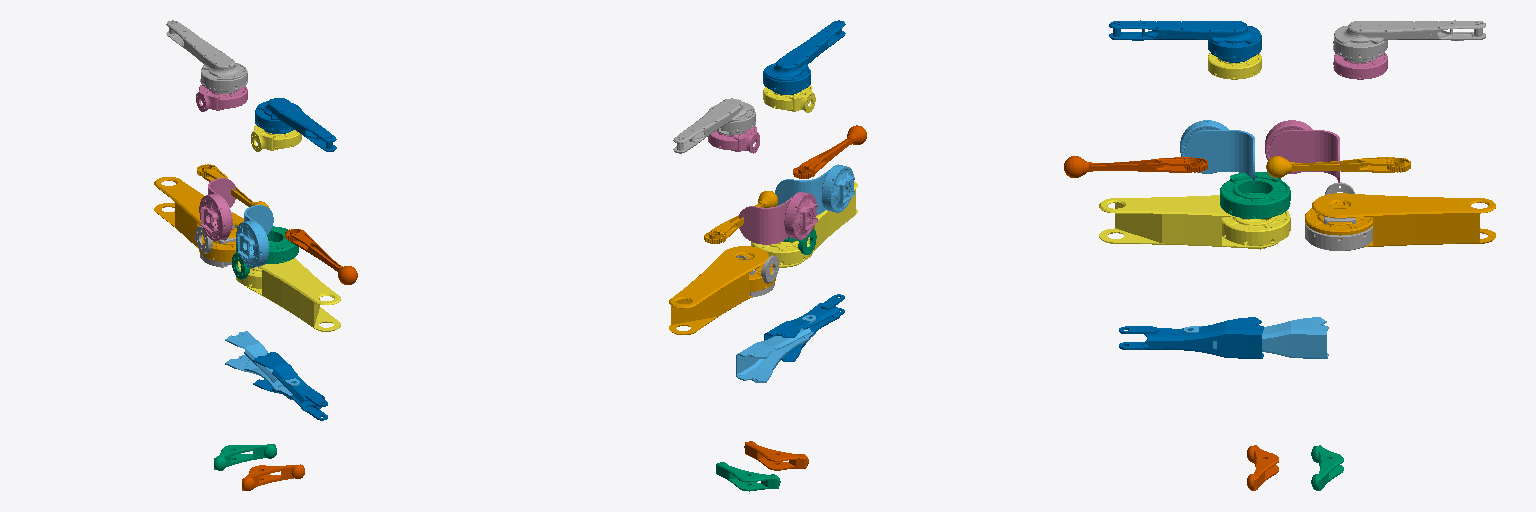
URDF robot description (humanoid):
<robot name="humanoid">
  <!-- ===== DUMMY 'BASE' LINK ==== -->
  <link name="torso">
    <inertial>
      <mass value="6.5"/>
      <origin xyz="0.0 0.0 0.15"/>
      <inertia ixx="0.3006167" ixy="0" ixz="0" iyy="0.23837" iyz="0" izz="0.09690467"/>
    </inertial>
    <visual>
      <geometry>
         <mesh filename="meshes/Body.dae" scale="1 1 1"/>
      </geometry>
      <origin rpy="-1.5707 0 0" xyz="0 0 0"/>
    </visual>
  </link>
  <!--!!!!!!!!!!!!!!!!!!!!!RIGHT LEG!!!!!!!!!!!!!!!!!!!!!!!!!!!!!!!!!!!!!!!!!!!!!!!!-->
  <joint name="torso_to_R_HipRz" type="continuous">
    <axis xyz="0 0 1"/>
    <origin rpy="0 0 0" xyz="0.0 -0.075 0.0"/>
    <parent link="torso"/>
    <child link="R_HipRz"/>
  </joint>
  <link name="R_HipRz">
    <inertial>
      <mass value="0.30"/>
      <origin xyz="0.0 0.00 -0.04293"/>
      <inertia ixx="0.003735" ixy="0.0" ixz="0.0" iyy="0.01391" iyz="0.0" izz="0.01355"/>
    </inertial>
    <visual>
      <geometry>
         <mesh filename="meshes/HipRz.dae" scale="1 1 1"/>
      </geometry>
      <origin rpy="-1.5707 0 0.0" xyz="0. 0. 0"/>
    </visual>
   </link>

  <joint name="R_HipRz_to_R_HipRx" type="continuous">
    <axis xyz="1 0 0"/>
    <origin rpy="0 0 0" xyz="-0.041 0.0 -0.0885"/>
    <parent link="R_HipRz"/>
    <child link="R_HipRx"/>
  </joint>
  <link name="R_HipRx">
    <inertial>
      <mass value="0.30"/>
      <origin xyz="0.0 0.0 -0.01"/>
      <inertia ixx="0.003735" ixy="0.0" ixz="0.0" iyy="0.01391" iyz="0.0" izz="0.01355"/>
    </inertial>
    <visual>
      <geometry>
         <mesh filename="meshes/HipRx.dae" scale="1 1 1"/>
      </geometry>
      <origin rpy="-1.5707 0 0.0" xyz="0. 0. 0"/>
    </visual>
   </link>

  <joint name="R_HipRx_to_R_Thigh" type="continuous">
    <axis xyz="0 1 0"/>
    <origin rpy="0 0 0" xyz="0.065 0.0 0.0"/>
    <parent link="R_HipRx"/>
    <child link="R_Thigh"/>
  </joint>
  <link name="R_Thigh">
    <inertial>
      <mass value="1.0"/>
      <origin xyz="0.0 0.0 -0.10"/>
      <inertia ixx="0.003735" ixy="0.0" ixz="0.0" iyy="0.01391" iyz="0.0" izz="0.01355"/>
    </inertial>
    <visual>
        <geometry>
          <mesh filename="meshes/Thigh.dae" scale="1 1 1"/>
     </geometry>
      <origin rpy="-1.5707 0 0" xyz="0.0 0.0 0.0"/>
    </visual>
   </link>

  <joint name="R_Knee" type="continuous">
    <axis xyz="0 1 0"/>
    <origin rpy="0 0 0" xyz="0.0 0.017875 -0.247"/>
    <parent link="R_Thigh"/>
    <child link="R_Shank"/>
  </joint>
  <link name="R_Shank">
    <inertial>
      <mass value="0.70"/>
      <origin xyz="-0.03416 -0.00075 -0.01"/>
      <inertia ixx="0.003735" ixy="0.0" ixz="0.0" iyy="0.01391" iyz="0.0" izz="0.01355"/>
    </inertial>
    <visual>
      <geometry>
         <mesh filename="meshes/LowerLeg3_drawing.dae" scale="1 1 1"/>
      </geometry>
      <origin rpy="-1.5707 0 0.0" xyz="0. 0. 0"/>
    </visual>
  </link>

  <joint name="R_Ankle" type="continuous">
    <axis xyz="0 1 0"/>
    <origin rpy="0 0 0" xyz="0.0 0.0 -0.247"/>
    <parent link="R_Shank"/>
    <child link="R_Foot"/>
  </joint>
  <link name="R_Foot">
    <inertial>
      <mass value="0.30"/>
      <origin xyz="0.0 0.0 -0.01"/>
      <inertia ixx="0.003735" ixy="0.0" ixz="0.0" iyy="0.01391" iyz="0.0" izz="0.01355"/>
    </inertial>
    <visual>
      <geometry>
        <mesh filename="meshes/foot_drawing.dae" scale="1 1 1"/>
      </geometry>
      <origin rpy="-1.5707 0 0.0" xyz="0. 0. 0"/>
    </visual>
  </link>

  <!--!!!!!!!!!!!!!!!!!!!!!LEFT LEG!!!!!!!!!!!!!!!!!!!!!!!!!!!!!!!!!!!!!!!!!!!!!!!!-->
  <joint name="torso_to_L_HipRz" type="continuous">
    <axis xyz="0 0 1"/>
    <origin rpy="0 0 0" xyz="0.0 0.075 0.0"/>
    <parent link="torso"/>
    <child link="L_HipRz"/>
  </joint>
  <link name="L_HipRz">
    <inertial>
      <mass value="0.30"/>
      <origin xyz="0.0 0.00 -0.04293"/>
      <inertia ixx="0.003735" ixy="0.0" ixz="0.0" iyy="0.01391" iyz="0.0" izz="0.01355"/>
    </inertial>
    <visual>
      <geometry>
         <mesh filename="meshes/HipRz.dae" scale="1 1 1"/>
      </geometry>
      <origin rpy="-1.5707 0 0.0" xyz="0. 0. 0"/>
    </visual>
   </link>

  <joint name="L_HipRz_to_L_HipRx" type="continuous">
    <axis xyz="1 0 0"/>
    <origin rpy="0 0 0" xyz="-0.041 0.0 -0.0885"/>
    <parent link="L_HipRz"/>
    <child link="L_HipRx"/>
  </joint>
  <link name="L_HipRx">
    <inertial>
      <mass value="0.30"/>
      <origin xyz="0.0 0.0 -0.01"/>
      <inertia ixx="0.003735" ixy="0.0" ixz="0.0" iyy="0.01391" iyz="0.0" izz="0.01355"/>
    </inertial>
    <visual>
      <geometry>
         <mesh filename="meshes/HipRx.dae" scale="1 1 1"/>
      </geometry>
      <origin rpy="1.5707 0 0" xyz="0. 0. 0"/>
    </visual>
   </link>

  <joint name="L_HipRx_to_L_Thigh" type="continuous">
    <axis xyz="0 1 0"/>
    <origin rpy="0 0 0" xyz="0.065 0.0 0.0"/>
    <parent link="L_HipRx"/>
    <child link="L_Thigh"/>
  </joint>
  <link name="L_Thigh">
    <inertial>
      <mass value="1.0"/>
      <origin xyz="0.0 0.0 -0.10"/>
      <inertia ixx="0.003735" ixy="0.0" ixz="0.0" iyy="0.01391" iyz="0.0" izz="0.01355"/>
    </inertial>
    <visual>
        <geometry>
          <mesh filename="meshes/Thigh.dae" scale="1 1 1"/>
     </geometry>
      <origin rpy="-1.5707 0 3.141592" xyz="0.0 0.0 0.0"/>
    </visual>
   </link>

  <joint name="L_Knee" type="continuous">
    <axis xyz="0 1 0"/>
    <origin rpy="0 0 0" xyz="0.0 -0.017875 -0.247"/>
    <parent link="L_Thigh"/>
    <child link="L_Shank"/>
  </joint>
  <link name="L_Shank">
    <inertial>
      <mass value="0.70"/>
      <origin xyz="-0.03416 -0.00075 -0.01"/>
      <inertia ixx="0.003735" ixy="0.0" ixz="0.0" iyy="0.01391" iyz="0.0" izz="0.01355"/>
    </inertial>
    <visual>
      <geometry>
         <mesh filename="meshes/LowerLeg3_drawing.dae" scale="1 1 1"/>
      </geometry>
      <origin rpy="-1.5707 0 0.0" xyz="0. 0. 0"/>
    </visual>
  </link>

  <joint name="L_Ankle" type="continuous">
    <axis xyz="0 1 0"/>
    <origin rpy="0 0 0" xyz="0.0 0.0 -0.247"/>
    <parent link="L_Shank"/>
    <child link="L_Foot"/>
  </joint>
  <link name="L_Foot">
    <inertial>
      <mass value="0.30"/>
      <origin xyz="0.0 0.0 -0.01"/>
      <inertia ixx="0.003735" ixy="0.0" ixz="0.0" iyy="0.01391" iyz="0.0" izz="0.01355"/>
    </inertial>
    <visual>
      <geometry>
        <mesh filename="meshes/foot_drawing.dae" scale="1 1 1"/>
      </geometry>
      <origin rpy="-1.5707 0 0.0" xyz="0. 0. 0"/>
    </visual>
  </link>

  <!--!!!!!!!!!!!!!!!!!!!!!RIGHT ARM!!!!!!!!!!!!!!!!!!!!!!!!!!!!!!!!!!!!!!!!!!!!!!!!-->
  <joint name="torso_to_R_ShoulderRx" type="continuous">
    <axis xyz="1 0 0"/>
    <origin rpy="0 0 0" xyz="-0.0215 -0.1115 0.202"/>
    <parent link="torso"/>
    <child link="R_ShoulderRx"/>
  </joint>
  <link name="R_ShoulderRx">
    <inertial>
      <mass value="0.30"/>
      <origin xyz="0.01 0.0 0.0"/>
      <inertia ixx="0.003735" ixy="0.0" ixz="0.0" iyy="0.01391" iyz="0.0" izz="0.01355"/>
    </inertial>
    <visual>
      <geometry>
        <mesh filename="meshes/ShoulderRx.dae" scale="1 1 1"/>
      </geometry>
      <origin rpy="-1.5707 0 0.0" xyz="0. 0. 0"/>
    </visual>
   </link>

  <joint name="R_ShoulderRx_to_R_UpperArm" type="continuous">
    <axis xyz="0 1 0"/>
    <origin rpy="0 0 0" xyz="0.0545 0.0 0.0"/>
    <parent link="R_ShoulderRx"/>
    <child link="R_UpperArm"/>
  </joint>
  <link name="R_UpperArm">
    <inertial>
      <mass value="0.37"/>
      <origin xyz="0.0 0.0 -0.09"/>
      <inertia ixx="0.003735" ixy="0.0" ixz="0.0" iyy="0.01391" iyz="0.0" izz="0.01355"/>
    </inertial>
    <visual>
      <geometry>
        <mesh filename="meshes/UpperArm.dae" scale="1 1 1"/>
      </geometry>
      <origin rpy="-1.5707 0 0.0" xyz="0. 0. 0"/>
    </visual>
  </link>

  <joint name="R_UpperArm_to_R_ForeArm" type="continuous">
    <axis xyz="0 1 0"/>
    <origin rpy="0 0 0" xyz="0.0 -0.068 -0.195"/>
    <parent link="R_UpperArm"/>
    <child link="R_ForeArm"/>
  </joint>
  <link name="R_ForeArm">
    <inertial>
      <mass value="0.1"/>
      <origin xyz="0.0 0.0 -0.04"/>
      <inertia ixx="0.003735" ixy="0.0" ixz="0.0" iyy="0.01391" iyz="0.0" izz="0.01355"/>
    </inertial>
    <visual>
      <geometry>
         <mesh filename="meshes/ForeArm2.dae" scale="1 1 1"/>
      </geometry>
      <origin rpy="-1.5707 0 0" xyz="0.0 0.0 0"/>
    </visual>
  </link>

  <!--!!!!!!!!!!!!!!!!!!!!!LEFT ARM!!!!!!!!!!!!!!!!!!!!!!!!!!!!!!!!!!!!!!!!!!!!!!!!-->
  <joint name="torso_to_L_ShoulderRx" type="continuous">
    <axis xyz="1 0 0"/>
    <origin rpy="0 0 0" xyz="-0.0215 0.1115 0.202"/>
    <parent link="torso"/>
    <child link="L_ShoulderRx"/>
  </joint>
  <link name="L_ShoulderRx">
    <inertial>
      <mass value="0.30"/>
      <origin xyz="0.01 0.0 0.0"/>
      <inertia ixx="0.003735" ixy="0.0" ixz="0.0" iyy="0.01391" iyz="0.0" izz="0.01355"/>
    </inertial>
    <visual>
      <geometry>
        <mesh filename="meshes/ShoulderRx.dae" scale="1 1 1"/>
      </geometry>
      <origin rpy="-1.5707 0 0.0" xyz="0. 0. 0"/>
    </visual>
   </link>

  <joint name="L_ShoulderRx_to_L_UpperArm" type="continuous">
    <axis xyz="0 1 0"/>
    <origin rpy="0 0 0" xyz="0.0545 0.0 0.0"/>
    <parent link="L_ShoulderRx"/>
    <child link="L_UpperArm"/>
  </joint>
  <link name="L_UpperArm">
    <inertial>
      <mass value="0.37"/>
      <origin xyz="0.0 0.0 -0.09"/>
      <inertia ixx="0.003735" ixy="0.0" ixz="0.0" iyy="0.01391" iyz="0.0" izz="0.01355"/>
    </inertial>
    <visual>
      <geometry>
        <mesh filename="meshes/UpperArm.dae" scale="1 1 1"/>
      </geometry>
      <origin rpy="-1.5707 0 3.141592" xyz="0. 0. 0"/>
    </visual>
  </link>

  <joint name="L_UpperArm_to_L_ForeArm" type="continuous">
    <axis xyz="0 1 0"/>
    <origin rpy="0 0 0" xyz="0.0 0.068 -0.195"/>
    <parent link="L_UpperArm"/>
    <child link="L_ForeArm"/>
  </joint>
  <link name="L_ForeArm">
    <inertial>
      <mass value="0.1"/>
      <origin xyz="0.0 0.0 -0.04"/>
      <inertia ixx="0.003735" ixy="0.0" ixz="0.0" iyy="0.01391" iyz="0.0" izz="0.01355"/>
    </inertial>
    <visual>
      <geometry>
         <mesh filename="meshes/ForeArm2.dae" scale="1 1 1"/>
      </geometry>
      <origin rpy="-1.5707 0 0" xyz="0.0 0.0 0"/>
    </visual>
  </link>
</robot>

--- What the picture shows (computed from the rendered views, not written in the file) ---
Views: 3 orthographic renders of the robot side by side, from view 1: azimuth 30°, elevation 25°; view 2: azimuth 150°, elevation 25°; view 3: azimuth 270°, elevation 25°.
Robot: humanoid — 17 links, 16 joints (16 continuous); root link torso; default pose: every joint at zero.
Links seen in each view (by area): view 1: R_Thigh, L_Thigh, L_UpperArm, R_UpperArm, R_HipRz, R_Shank, L_HipRz, L_Shank, R_HipRx, R_ForeArm, L_Foot, R_Foot (+4 smaller); view 2: L_Thigh, L_HipRz, R_UpperArm, R_HipRz, L_UpperArm, L_Shank, R_Thigh, R_Shank, R_ForeArm, R_Foot, L_Foot, R_ShoulderRx (+3 smaller); view 3: L_Thigh, R_Thigh, R_Shank, L_UpperArm, R_UpperArm, R_HipRz, R_HipRx, L_HipRz, L_Shank, R_ForeArm, L_ForeArm, L_HipRx (+4 smaller).
Boxes of the visible links, x1=… form: R_Thigh: x1=236, y1=258, x2=340, y2=331; L_Thigh: x1=154, y1=177, x2=243, y2=261; L_UpperArm: x1=166, y1=20, x2=247, y2=93; R_UpperArm: x1=255, y1=98, x2=336, y2=151; R_HipRz: x1=236, y1=205, x2=273, y2=267; R_Shank: x1=253, y1=352, x2=327, y2=420; L_HipRz: x1=199, y1=178, x2=235, y2=240; L_Shank: x1=225, y1=331, x2=299, y2=399; R_HipRx: x1=232, y1=226, x2=298, y2=279; R_ForeArm: x1=285, y1=229, x2=357, y2=284; L_Foot: x1=214, y1=444, x2=276, y2=470; R_Foot: x1=242, y1=464, x2=304, y2=490; L_Thigh: x1=669, y1=246, x2=775, y2=334; L_HipRz: x1=739, y1=192, x2=817, y2=244; R_UpperArm: x1=763, y1=20, x2=845, y2=94; R_HipRz: x1=775, y1=164, x2=854, y2=214; L_UpperArm: x1=673, y1=98, x2=755, y2=153; L_Shank: x1=736, y1=315, x2=815, y2=382; R_Thigh: x1=751, y1=181, x2=857, y2=267; R_Shank: x1=764, y1=294, x2=844, y2=361; R_ForeArm: x1=793, y1=125, x2=866, y2=178; R_Foot: x1=744, y1=441, x2=808, y2=470; L_Foot: x1=716, y1=462, x2=780, y2=491; R_ShoulderRx: x1=763, y1=86, x2=815, y2=112; L_Thigh: x1=1305, y1=193, x2=1495, y2=247; R_Thigh: x1=1099, y1=195, x2=1290, y2=249; R_Shank: x1=1119, y1=317, x2=1263, y2=358; L_UpperArm: x1=1333, y1=20, x2=1485, y2=62; R_UpperArm: x1=1109, y1=20, x2=1261, y2=62; R_HipRz: x1=1180, y1=120, x2=1254, y2=182; R_HipRx: x1=1220, y1=172, x2=1290, y2=218; L_HipRz: x1=1265, y1=120, x2=1339, y2=182; L_Shank: x1=1184, y1=317, x2=1328, y2=358; R_ForeArm: x1=1064, y1=156, x2=1207, y2=177; L_ForeArm: x1=1266, y1=156, x2=1410, y2=177; L_HipRx: x1=1305, y1=182, x2=1372, y2=250.
Bounding box of the posed robot: 0.1935 × 0.7665 × 0.8815 m (x, y, z).
Meshes: 9 distinct files referenced, 16 mesh visuals loaded (8 Collada DAE); not drawn: 1 (reference not matched to a file when rendering).